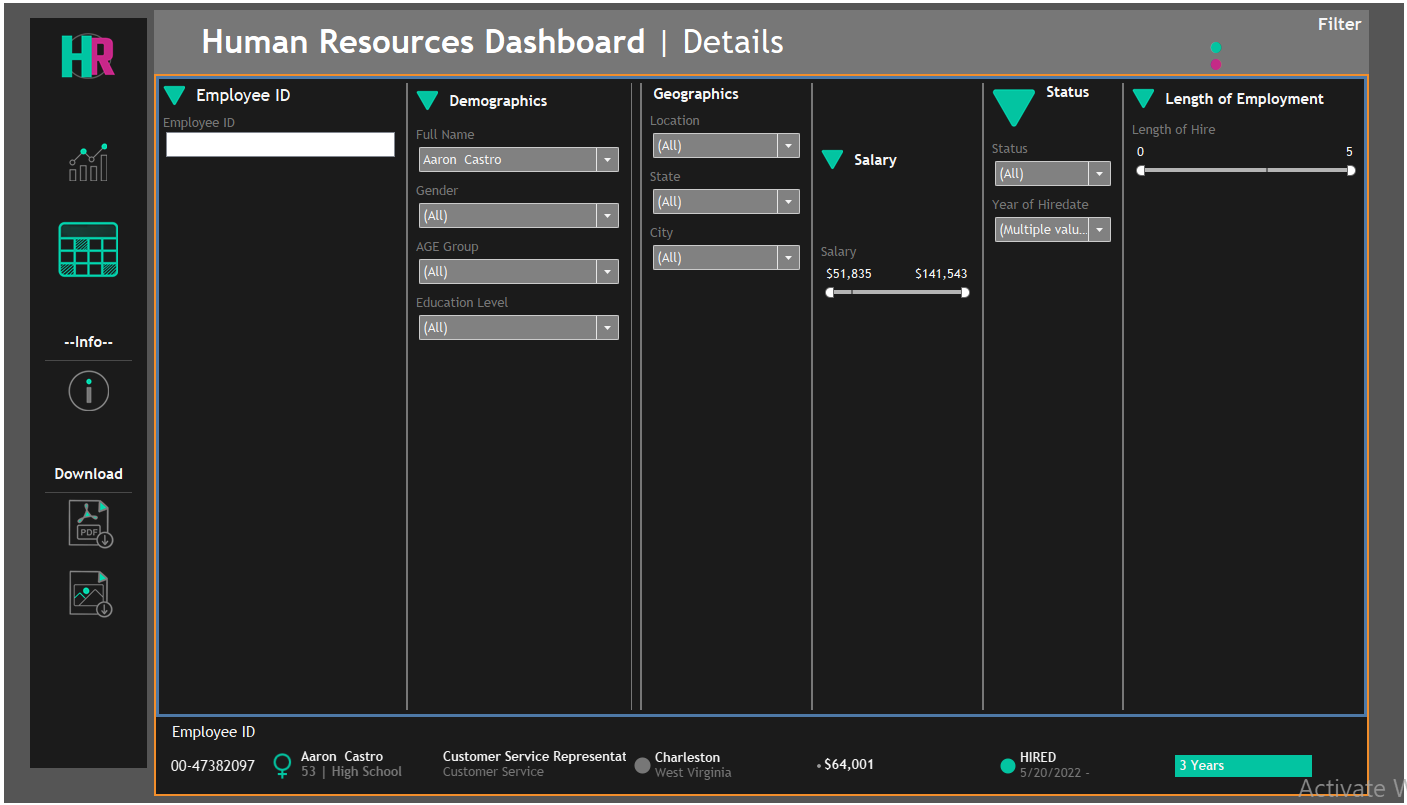

This screenshot's page, from the dashboard's own definition file:
{"tool":"tableau","page":{"name":"HR | Details","canvas":[1400,800],"ordinal":0},"visuals":[{"type":"text","box":[1286,6,100,30]},{"type":"text","box":[150,7,677.5,64]},{"type":"blank","box":[827.5,7,537.5,64]},{"type":"image","param":"Image/Logo.png","box":[36,25,97,55]},{"type":"text","box":[1203,37,89,36]},{"type":"dashboard-object","box":[155,76,30,32]},{"type":"text","box":[185,76,213.5,32]},{"type":"blank","box":[398.5,76,10,353]},{"type":"dashboard-object","box":[408.5,76,30,44]},{"type":"text","box":[438.5,76,184,44]},{"type":"dashboard-object","box":[542,76,30,32]},{"type":"text","box":[572,76,61.5,32]},{"type":"blank","box":[622.5,76,10,353]},{"type":"blank","box":[632.5,76,10,353]},{"type":"blank","box":[633.5,76,49.5,32]},{"type":"text","box":[642.5,76,161,30]},{"type":"blank","box":[803.5,76,10,353]},{"type":"dashboard-object","box":[813.5,76,30,91]},{"type":"text","box":[843.5,76,90,91]},{"type":"blank","box":[974.5,76,10,353]},{"type":"dashboard-object","box":[984.5,76,51,32]},{"type":"text","box":[1035.5,76,79,26]},{"type":"blank","box":[1114.5,76,10,353]},{"type":"dashboard-object","box":[1124.5,76,30,39]},{"type":"text","box":[1154.5,76,205.5,39]},{"type":"blank","box":[36,80,97,60]},{"type":"filter","title":"details","param":"[federated.1b5o2vp1k13vo616yvkzb0z88h2i].[none:Calculation_1937110846422126599:n","box":[642.5,106,161,56]},{"type":"filter","title":"details","param":"[federated.1b5o2vp1k13vo616yvkzb0z88h2i].[none:Employee_ID:nk]","box":[155,108,243.5,53]},{"type":"filter","title":"details","param":"[federated.1b5o2vp1k13vo616yvkzb0z88h2i].[none:Job Title:nk]","box":[542,108,141,79]},{"type":"filter","title":"details","param":"[federated.1b5o2vp1k13vo616yvkzb0z88h2i].[none:Calculation_1937110847479668753:n","box":[984.5,108,130,56]},{"type":"filter","title":"details","param":"[federated.1b5o2vp1k13vo616yvkzb0z88h2i].[sum:Calculation_1426515241898348553:qk","box":[1124.5,115,235.5,68]},{"type":"filter","title":"details","param":"[federated.1b5o2vp1k13vo616yvkzb0z88h2i].[none:Calculation_1426515241864122372:n","box":[408.5,120,214,56]},{"type":"dashboard-object","box":[36,140,97,38]},{"type":"filter","title":"details","param":"[federated.1b5o2vp1k13vo616yvkzb0z88h2i].[none:State:nk]","box":[642.5,162,161,56]},{"type":"filter","title":"details","param":"[federated.1b5o2vp1k13vo616yvkzb0z88h2i].[yr:Hiredate:ok]","box":[984.5,164,130,56]},{"type":"filter","title":"details","param":"[federated.1b5o2vp1k13vo616yvkzb0z88h2i].[sum:Salary:qk]","box":[813.5,167,161,68]},{"type":"filter","title":"details","param":"[federated.1b5o2vp1k13vo616yvkzb0z88h2i].[none:Gender:nk]","box":[408.5,176,214,56]},{"type":"blank","box":[36,178,97,38]},{"type":"filter","title":"details","param":"[federated.1b5o2vp1k13vo616yvkzb0z88h2i].[none:Department:nk]","box":[542,187,141,76]},{"type":"dashboard-object","box":[36,216,97,60]},{"type":"filter","title":"details","param":"[federated.1b5o2vp1k13vo616yvkzb0z88h2i].[none:City:nk]","box":[642.5,218,161,56]},{"type":"filter","title":"details","param":"[federated.1b5o2vp1k13vo616yvkzb0z88h2i].[none:Calculation_1937110846440509456:n","box":[408.5,232,214,56]},{"type":"text","box":[142,266,1257,267]},{"type":"blank","box":[36,276,97,50]},{"type":"filter","title":"details","param":"[federated.1b5o2vp1k13vo616yvkzb0z88h2i].[none:Education Level:nk]","box":[408.5,288,214,56]},{"type":"text","box":[36,326,97,26]},{"type":"blank","box":[36,352,97,11]},{"type":"dashboard-object","box":[36,363,97,49]},{"type":"blank","box":[36,412,97,46]},{"type":"worksheet","title":"details","mark":"Shape","rows":["Employee_ID"],"cols":["Calculation_1426515241874878472","Calculation_1426515241874878472","Calculation_1426515241874878472","Calculation_1426515241874878472","Calculation_1426515241874878472","Calculation_1426515241898348553"],"box":[152,432,1211,359]},{"type":"text","box":[36,458,97,26]},{"type":"blank","box":[36,484,97,11]},{"type":"dashboard-object","box":[36,495,97,51]},{"type":"blank","box":[36,546,97,20]},{"type":"dashboard-object","box":[36,566,97,49]}]}

Visuals, with their boxes in screenshot pixels (x1, y1, x2, y2), scaled from the page's 1400x800 canvas onto the 1407x805 screenshot:
text: box=[1292, 6, 1393, 36]
text: box=[151, 7, 832, 71]
blank: box=[832, 7, 1372, 71]
image: box=[36, 25, 134, 80]
text: box=[1209, 37, 1298, 73]
dashboard-object: box=[156, 76, 186, 109]
text: box=[186, 76, 400, 109]
blank: box=[400, 76, 411, 432]
dashboard-object: box=[411, 76, 441, 121]
text: box=[441, 76, 626, 121]
dashboard-object: box=[545, 76, 575, 109]
text: box=[575, 76, 637, 109]
blank: box=[626, 76, 636, 432]
blank: box=[636, 76, 646, 432]
blank: box=[637, 76, 686, 109]
text: box=[646, 76, 808, 107]
blank: box=[808, 76, 818, 432]
dashboard-object: box=[818, 76, 848, 168]
text: box=[848, 76, 938, 168]
blank: box=[979, 76, 989, 432]
dashboard-object: box=[989, 76, 1041, 109]
text: box=[1041, 76, 1120, 103]
blank: box=[1120, 76, 1130, 432]
dashboard-object: box=[1130, 76, 1160, 116]
text: box=[1160, 76, 1367, 116]
blank: box=[36, 80, 134, 141]
"details" filter: box=[646, 107, 808, 163]
"details" filter: box=[156, 109, 400, 162]
"details" filter: box=[545, 109, 686, 188]
"details" filter: box=[989, 109, 1120, 165]
"details" filter: box=[1130, 116, 1367, 184]
"details" filter: box=[411, 121, 626, 177]
dashboard-object: box=[36, 141, 134, 179]
"details" filter: box=[646, 163, 808, 219]
"details" filter: box=[989, 165, 1120, 221]
"details" filter: box=[818, 168, 979, 236]
"details" filter: box=[411, 177, 626, 233]
blank: box=[36, 179, 134, 217]
"details" filter: box=[545, 188, 686, 265]
dashboard-object: box=[36, 217, 134, 278]
"details" filter: box=[646, 219, 808, 276]
"details" filter: box=[411, 233, 626, 290]
text: box=[143, 268, 1406, 536]
blank: box=[36, 278, 134, 328]
"details" filter: box=[411, 290, 626, 346]
text: box=[36, 328, 134, 354]
blank: box=[36, 354, 134, 365]
dashboard-object: box=[36, 365, 134, 415]
blank: box=[36, 415, 134, 461]
"details" worksheet (Shape marks): box=[153, 435, 1370, 796]
text: box=[36, 461, 134, 487]
blank: box=[36, 487, 134, 498]
dashboard-object: box=[36, 498, 134, 549]
blank: box=[36, 549, 134, 570]
dashboard-object: box=[36, 570, 134, 619]
